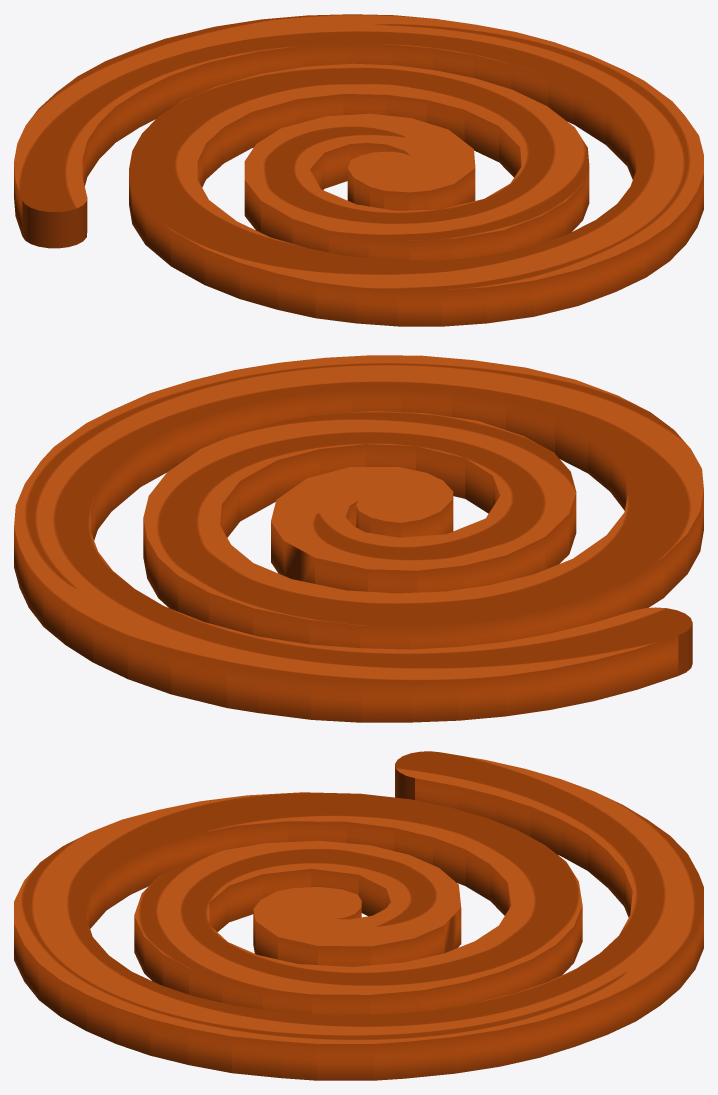
Rendered from BBQ_Sauce_Slice.glb.
The picture shows the model from 3 angles, top to bottom: view 1: azimuth 30°, elevation 25°; view 2: azimuth 150°, elevation 25°; view 3: azimuth 270°, elevation 25°; orthographic projection. The views are drawn at different scales.
Visible parts, largest first — view 1: BBQ_Sauce_Slice; view 2: BBQ_Sauce_Slice; view 3: BBQ_Sauce_Slice.
Boxes of the visible parts, x1,y1,x2,y2 form: BBQ_Sauce_Slice: [14, 14, 703, 326]; BBQ_Sauce_Slice: [14, 355, 703, 722]; BBQ_Sauce_Slice: [14, 751, 703, 1080].
Size of the model in its own units: 17.06 by 1 by 17.
Materials: 1 (1 with a texture image).
